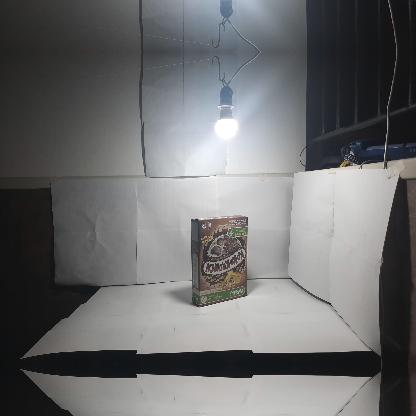Koko-Krunch: (190, 215, 248, 307)
